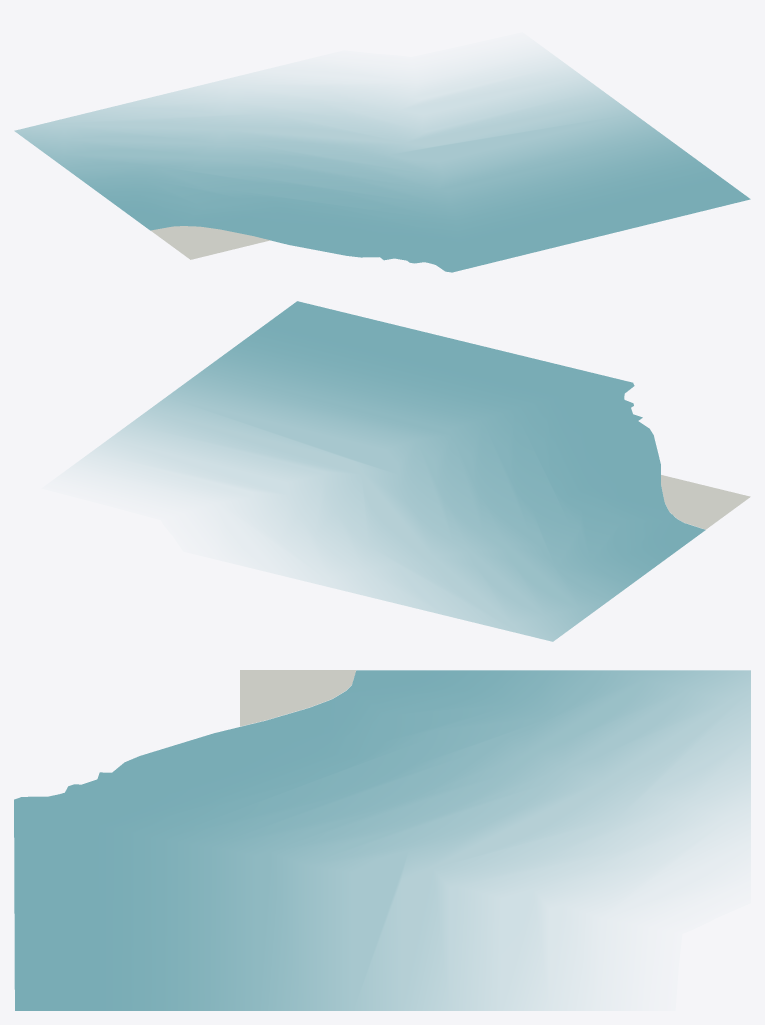
3 views of the same model, one above another, from view 1: azimuth 30°, elevation 25°; view 2: azimuth 150°, elevation 25°; view 3: azimuth 270°, elevation 25° (orthographic). The views are drawn at different scales.
Visible parts, largest first — view 1: city; view 2: city; view 3: city.
Part boxes in pixels (x1,y1,x2,y2): city: (14,57,750,272); city: (79,301,750,641); city: (14,670,750,1010).
Size of the model in its own units: 500 by 0.18 by 457.
